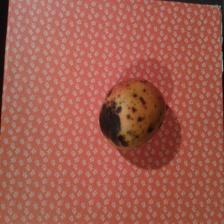Mango Semirotten: (96, 78, 174, 151)
